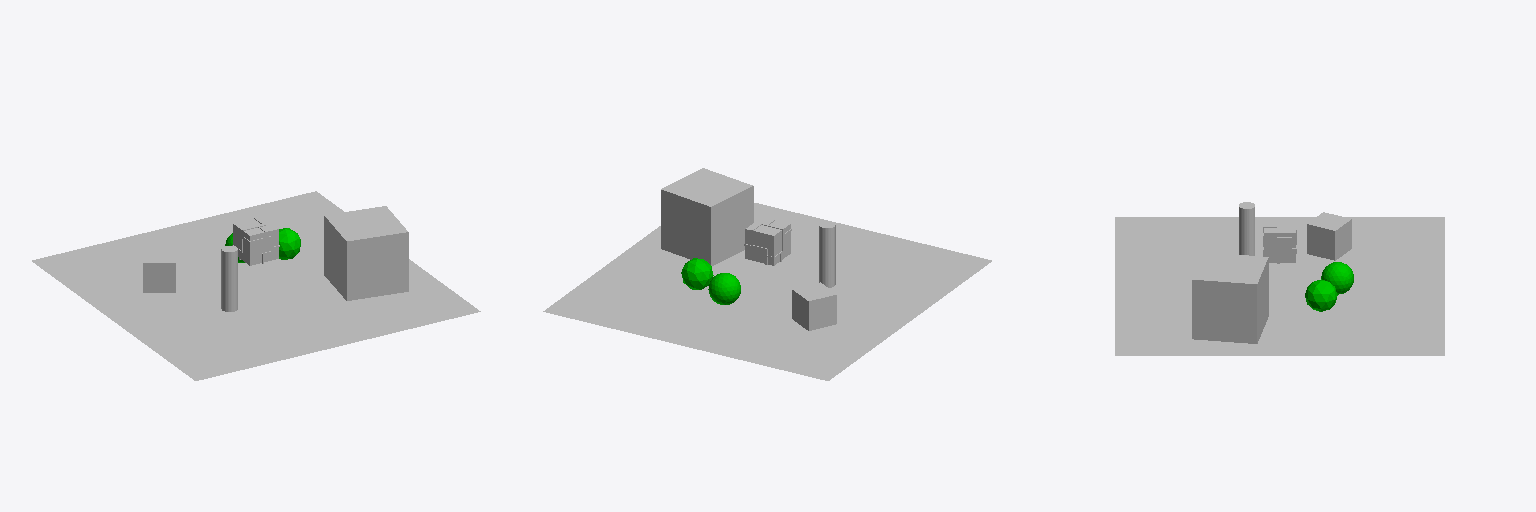
File: scene1_alt.obj
The picture shows the model from 3 angles: view 1: azimuth 30°, elevation 25°; view 2: azimuth 150°, elevation 25°; view 3: azimuth 270°, elevation 25°; orthographic projection.
Parts seen in each view (by area): view 1: Floor, Gold_Cube.002, Gold_Cube, Gold_Cube.001, Pillar, Emerald; view 2: Floor, Gold_Cube.002, Gold_Cube.001, Gold_Cube, Pillar, Icosphere, Emerald; view 3: Floor, Gold_Cube.002, Gold_Cube.001, Gold_Cube, Pillar, Emerald, Icosphere.
Part boxes in pixels (left/top/right/bottom): Floor: left=32, top=191, right=480, bottom=380; Gold_Cube.002: left=324, top=206, right=408, bottom=300; Gold_Cube: left=233, top=217, right=278, bottom=265; Gold_Cube.001: left=143, top=249, right=175, bottom=292; Pillar: left=221, top=246, right=237, bottom=311; Emerald: left=279, top=228, right=300, bottom=259; Floor: left=543, top=203, right=991, bottom=380; Gold_Cube.002: left=661, top=168, right=753, bottom=265; Gold_Cube.001: left=792, top=282, right=836, bottom=330; Gold_Cube: left=745, top=217, right=790, bottom=265; Pillar: left=819, top=221, right=835, bottom=287; Icosphere: left=708, top=273, right=740, bottom=304; Emerald: left=681, top=258, right=713, bottom=289; Floor: left=1115, top=217, right=1444, bottom=355; Gold_Cube.002: left=1192, top=252, right=1268, bottom=343; Gold_Cube.001: left=1307, top=212, right=1351, bottom=260; Gold_Cube: left=1264, top=220, right=1295, bottom=262; Pillar: left=1239, top=202, right=1254, bottom=255; Emerald: left=1305, top=279, right=1337, bottom=311; Icosphere: left=1321, top=262, right=1353, bottom=294.
Bounding box in the file's own units: 20 × 4.05 × 20.